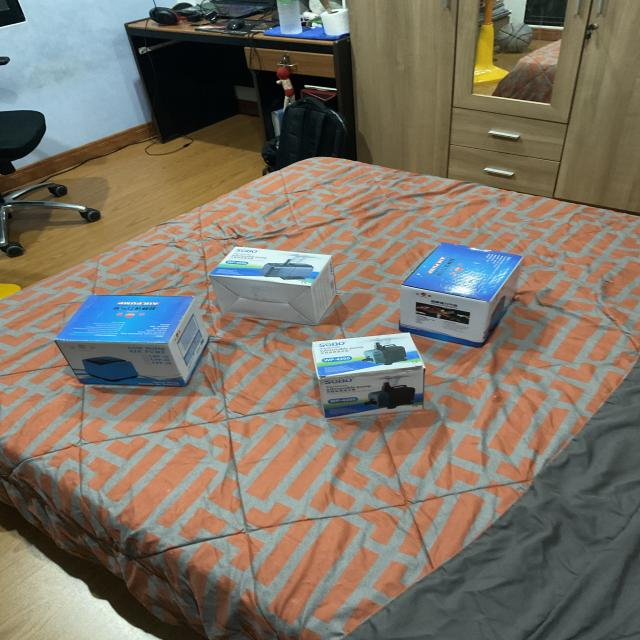SOBO_WP_4200: (308, 329, 445, 428), (205, 236, 339, 325)
YAMANO_LPP_20: (51, 284, 214, 400), (394, 231, 536, 350)
